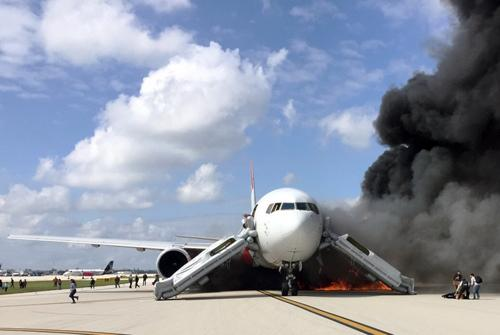airplane: (9, 177, 426, 297)
